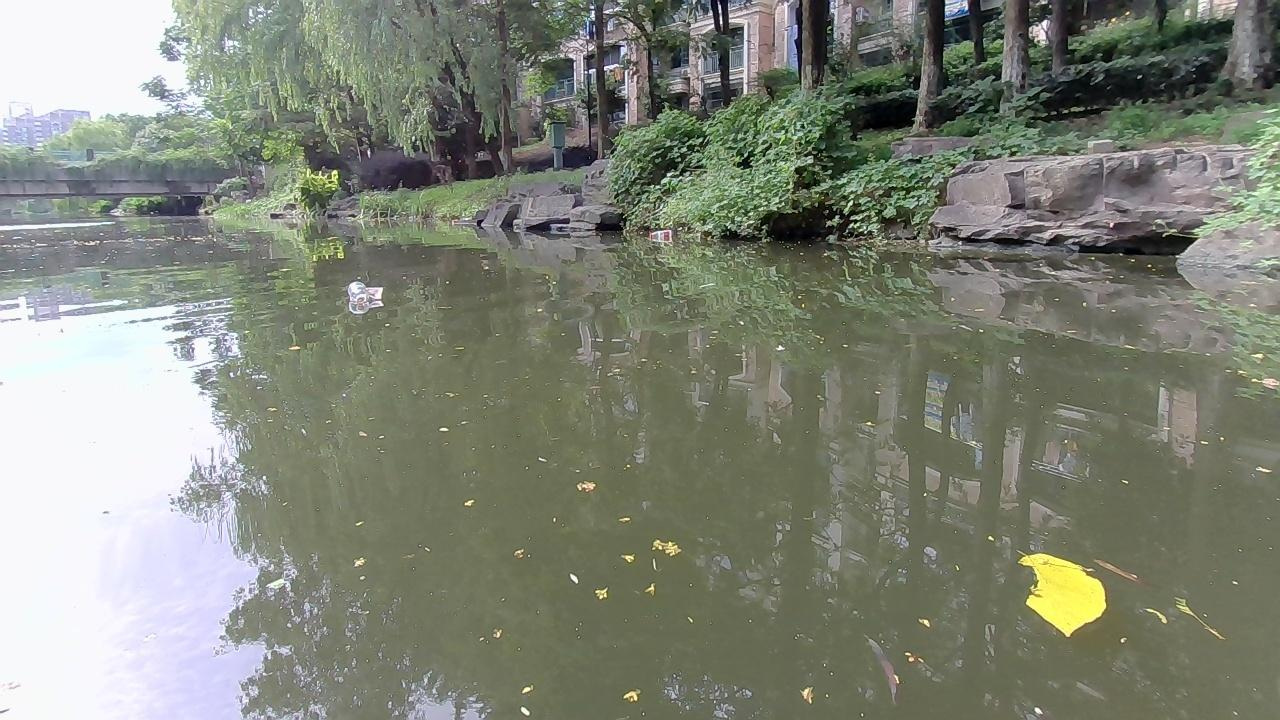bottle: (349, 278, 371, 304), (646, 226, 672, 238)
